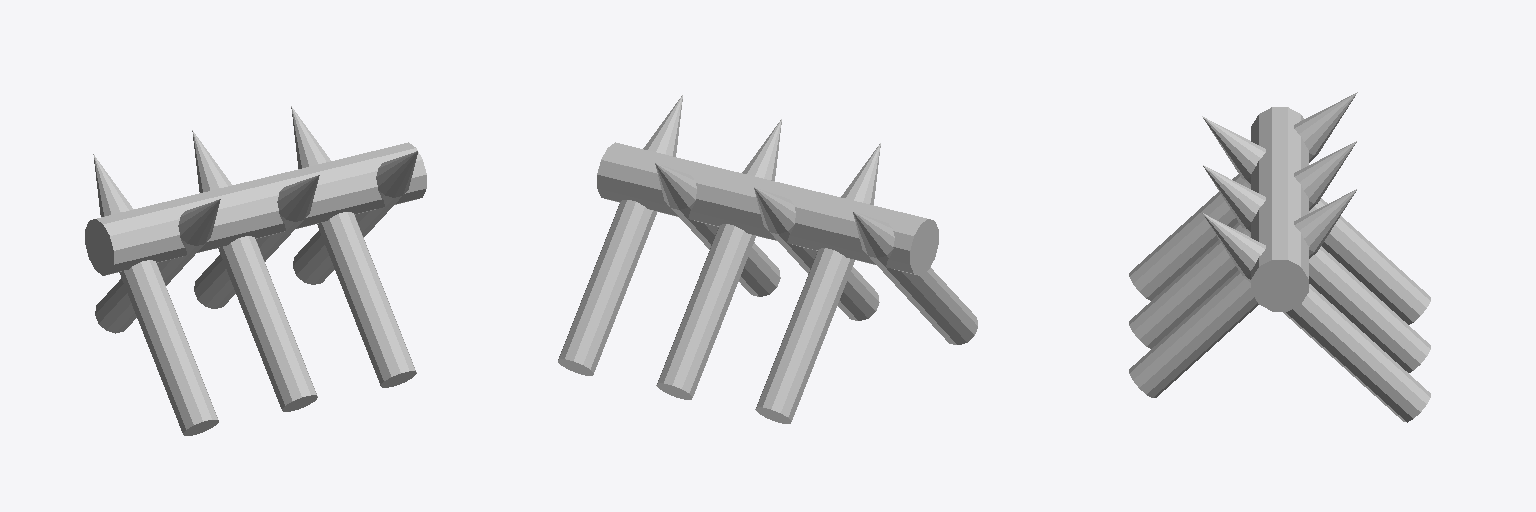
The model's file is Barricade.obj.
3 views of the same model, side by side, from view 1: azimuth 30°, elevation 25°; view 2: azimuth 150°, elevation 25°; view 3: azimuth 270°, elevation 25° (orthographic).
Parts seen in each view (by area): view 1: Spike, cylinder; view 2: Spike, cylinder; view 3: Spike, cylinder.
Boxes of the visible parts, x1,y1,x2,y2 form: Spike: [93, 106, 417, 435]; cylinder: [85, 142, 426, 275]; Spike: [558, 95, 977, 423]; cylinder: [597, 142, 938, 275]; Spike: [1129, 92, 1430, 422]; cylinder: [1251, 107, 1308, 311].
Bounding box in the file's own units: 1.19 × 0.7513 × 0.9899.